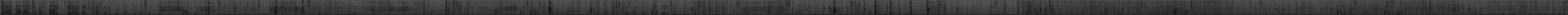Moan: (1039, 0, 1042, 15)
